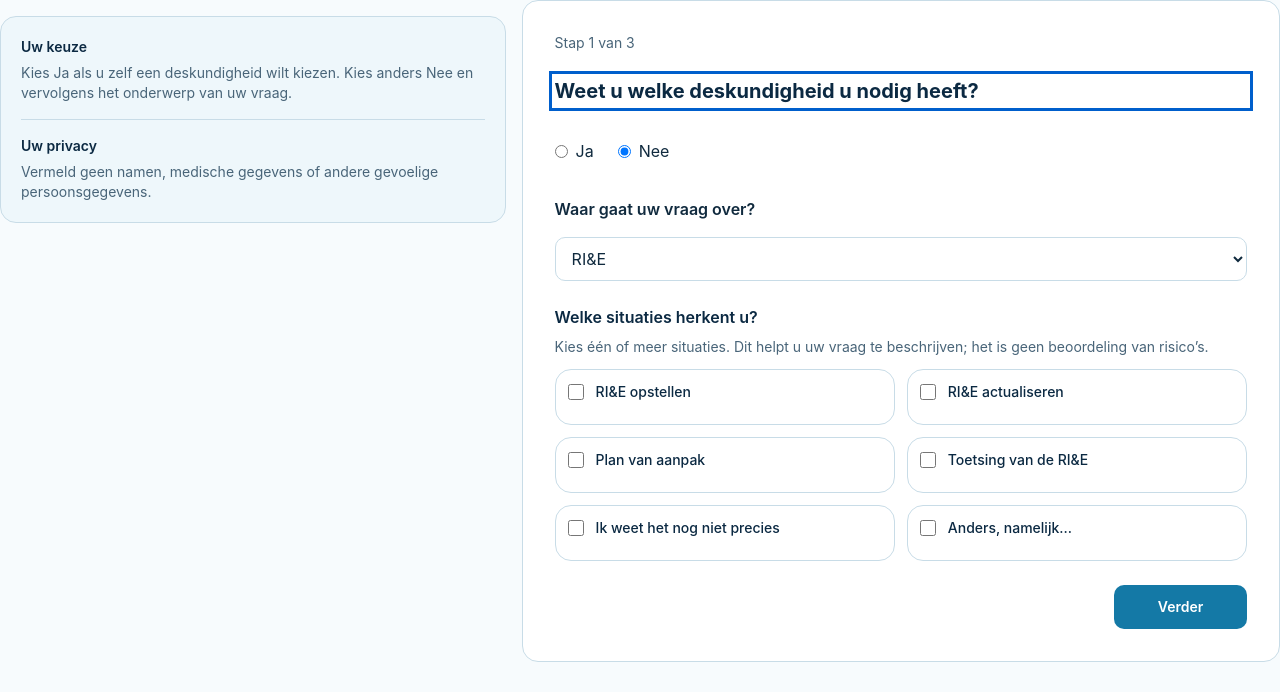
Test: thema-afhankelijke situaties › hervat een oud browserconcept op stap 1 bij de nieuwe vraag zonder tekstverlies
The width and height of the screenshot is (1280, 692).
Expected: the element "Welke situaties herkent u?" is shown, [555,305,1247,561]
Click the checkbox labelled "RI&E actualiseren".
click(928, 392)  # box [920,384,936,400]
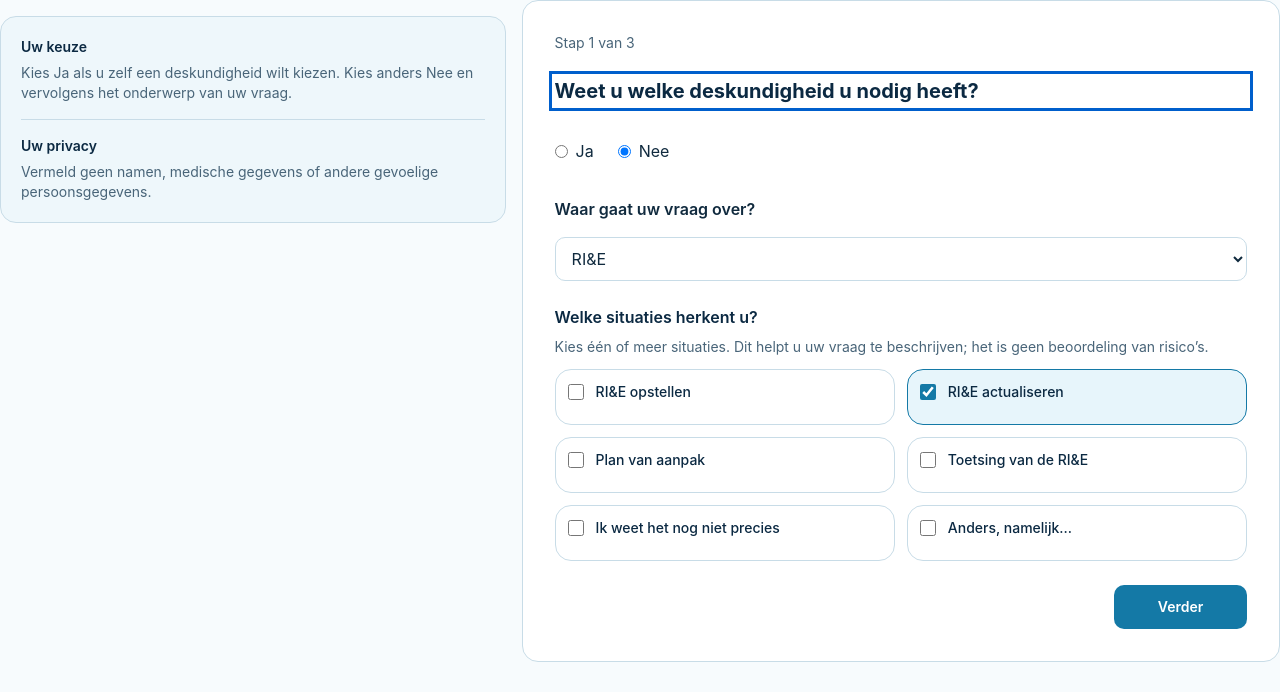
Click the button "Verder".
click(1181, 607)  # box [1114,585,1247,629]
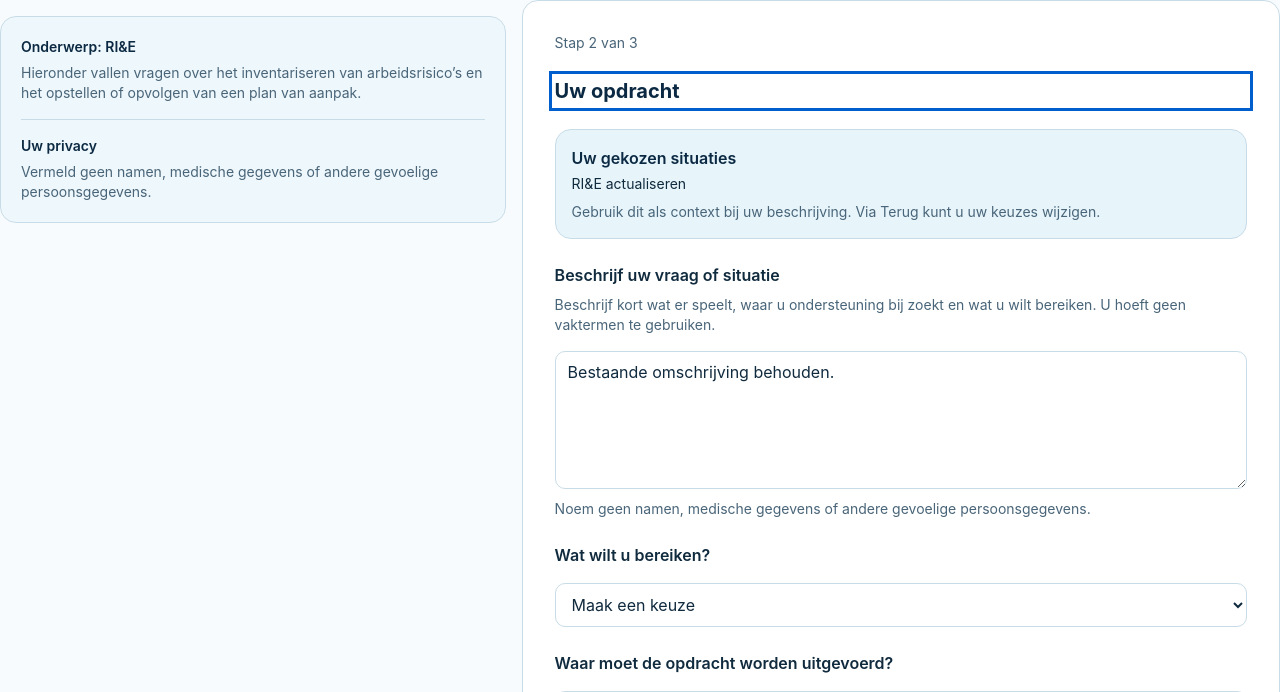
Now the text box labelled "Beschrijf uw vraag of situatie" holds "Bestaande omschrijving behouden.", box [555,351,1247,489]
